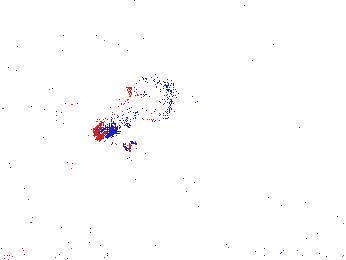flame jellyfish: (94, 72, 181, 141), (242, 161, 311, 203), (75, 126, 141, 168)
